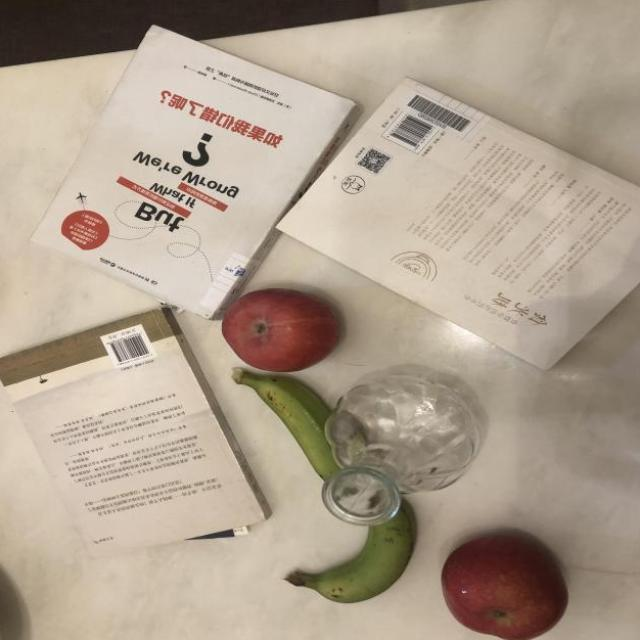Apple: (423, 515, 575, 639), (213, 272, 353, 394)
Banana: (201, 356, 375, 492), (267, 475, 420, 624)
Book: (209, 82, 640, 383), (20, 0, 356, 332), (0, 302, 264, 568)
